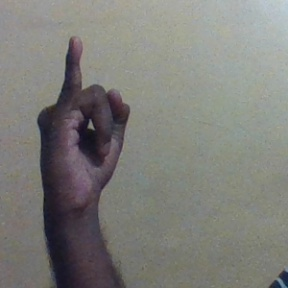I: (38, 35, 129, 206)
